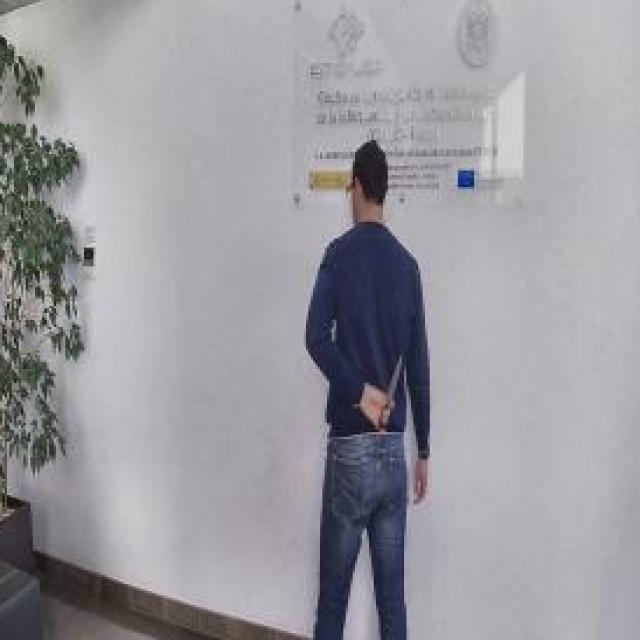knife: (374, 346, 405, 436)
